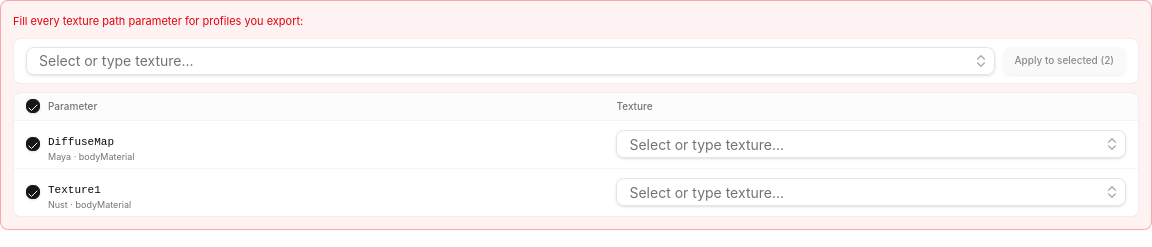
Test: MissingTexturePathFillPanel › select all toggles every row checkbox
Click the checkbox named "Select all texture path slots" at (33, 106), box [26,99,40,113]
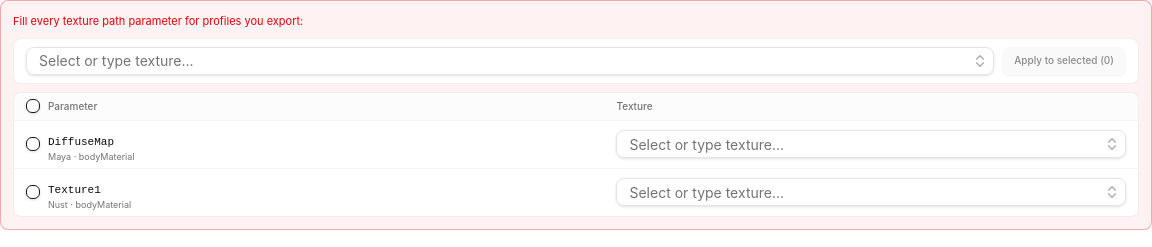
Expected: the button "Apply to selected (0)" is disabled, [1002,46,1126,74]
Click the checkbox named "Select all texture path slots" at (33, 106), box [26,99,40,113]
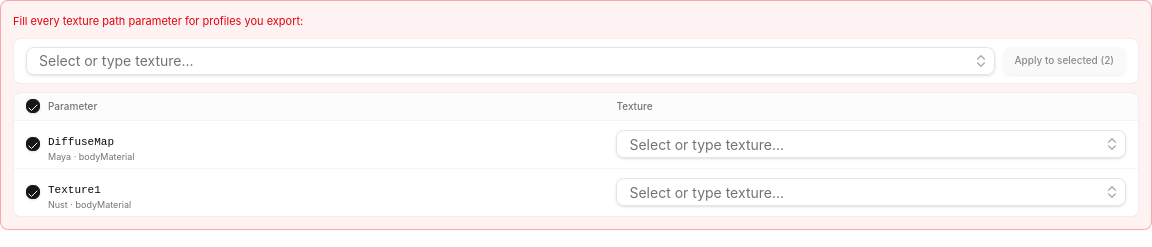
Expected: the button "Apply to selected (2)" is shown, [1002,46,1126,74]
